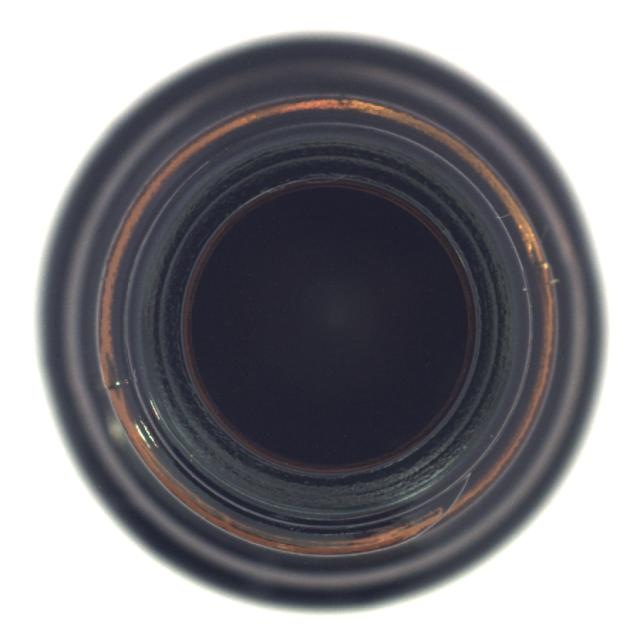bottle-good: (35, 33, 598, 611)
